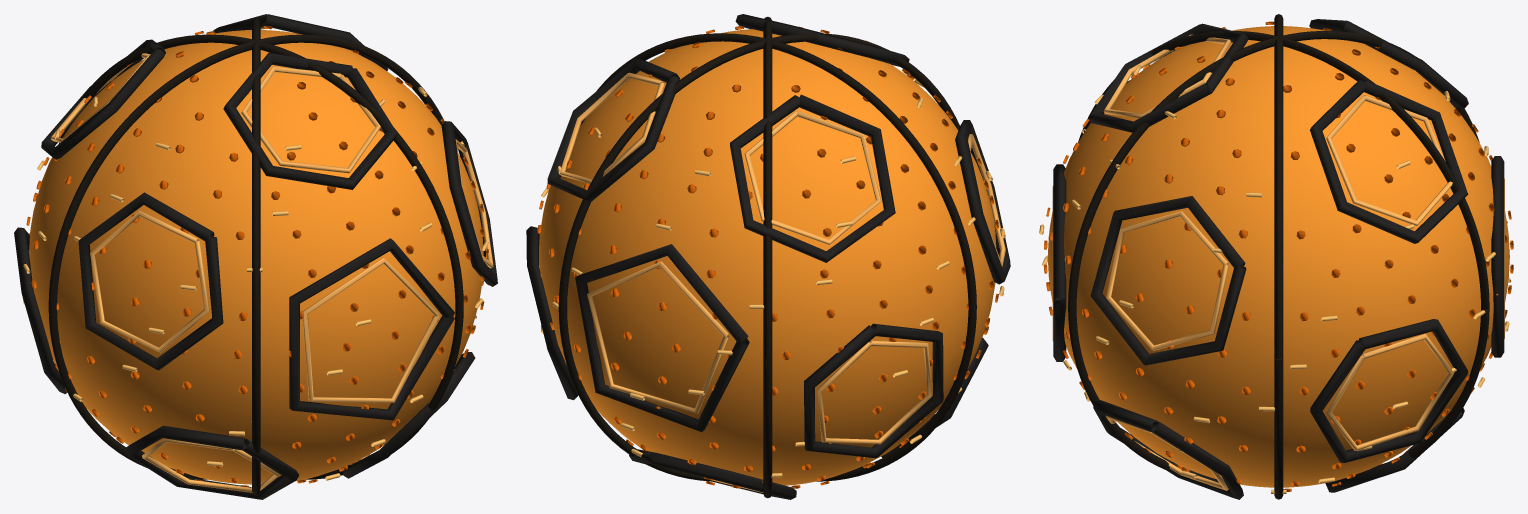
Rendered from Handball_3D_v2.glb.
3 renders of one model, left to right at view 1: azimuth 30°, elevation 25°; view 2: azimuth 150°, elevation 25°; view 3: azimuth 270°, elevation 25°, orthographic.
Parts seen in each view (by area): view 1: Handball_3D_v2__web_orange_textured_handball_rubber, Handball_3D_v2__web_dark_recessed_handball_panel_seams, Handball_3D_v2__web_v2_extra_dark_handball_recessed_seam_sha, Handball_3D_v2__web_slightly_lighter_orange_panel_bevels, Handball_3D_v2__web_darker_orange_raised_handball_dimples, Handball_3D_v2__web_v2_extra_warm_handball_leather_scuffs; view 2: Handball_3D_v2__web_orange_textured_handball_rubber, Handball_3D_v2__web_dark_recessed_handball_panel_seams, Handball_3D_v2__web_v2_extra_dark_handball_recessed_seam_sha, Handball_3D_v2__web_slightly_lighter_orange_panel_bevels, Handball_3D_v2__web_darker_orange_raised_handball_dimples, Handball_3D_v2__web_v2_extra_warm_handball_leather_scuffs; view 3: Handball_3D_v2__web_orange_textured_handball_rubber, Handball_3D_v2__web_dark_recessed_handball_panel_seams, Handball_3D_v2__web_v2_extra_dark_handball_recessed_seam_sha, Handball_3D_v2__web_slightly_lighter_orange_panel_bevels, Handball_3D_v2__web_darker_orange_raised_handball_dimples, Handball_3D_v2__web_v2_extra_warm_handball_leather_scuffs.
Boxes of the visible parts, x1,y1,x2,y2 form: Handball_3D_v2__web_orange_textured_handball_rubber: [29, 30, 483, 484]; Handball_3D_v2__web_dark_recessed_handball_panel_seams: [14, 14, 497, 499]; Handball_3D_v2__web_v2_extra_dark_handball_recessed_seam_sha: [48, 18, 463, 495]; Handball_3D_v2__web_slightly_lighter_orange_panel_bevels: [28, 27, 493, 492]; Handball_3D_v2__web_darker_orange_raised_handball_dimples: [26, 25, 488, 487]; Handball_3D_v2__web_v2_extra_warm_handball_leather_scuffs: [23, 54, 488, 480]; Handball_3D_v2__web_orange_textured_handball_rubber: [539, 29, 996, 485]; Handball_3D_v2__web_dark_recessed_handball_panel_seams: [526, 14, 1010, 499]; Handball_3D_v2__web_v2_extra_dark_handball_recessed_seam_sha: [558, 16, 976, 498]; Handball_3D_v2__web_slightly_lighter_orange_panel_bevels: [559, 72, 1005, 492]; Handball_3D_v2__web_darker_orange_raised_handball_dimples: [537, 26, 998, 488]; Handball_3D_v2__web_v2_extra_warm_handball_leather_scuffs: [541, 40, 1005, 477]; Handball_3D_v2__web_orange_textured_handball_rubber: [1047, 26, 1509, 487]; Handball_3D_v2__web_dark_recessed_handball_panel_seams: [1053, 19, 1504, 499]; Handball_3D_v2__web_v2_extra_dark_handball_recessed_seam_sha: [1068, 14, 1489, 499]; Handball_3D_v2__web_slightly_lighter_orange_panel_bevels: [1052, 34, 1504, 490]; Handball_3D_v2__web_darker_orange_raised_handball_dimples: [1044, 21, 1513, 491]; Handball_3D_v2__web_v2_extra_warm_handball_leather_scuffs: [1039, 28, 1511, 493].
Size of the model in its own units: 0.1976 by 0.198 by 0.1929.
